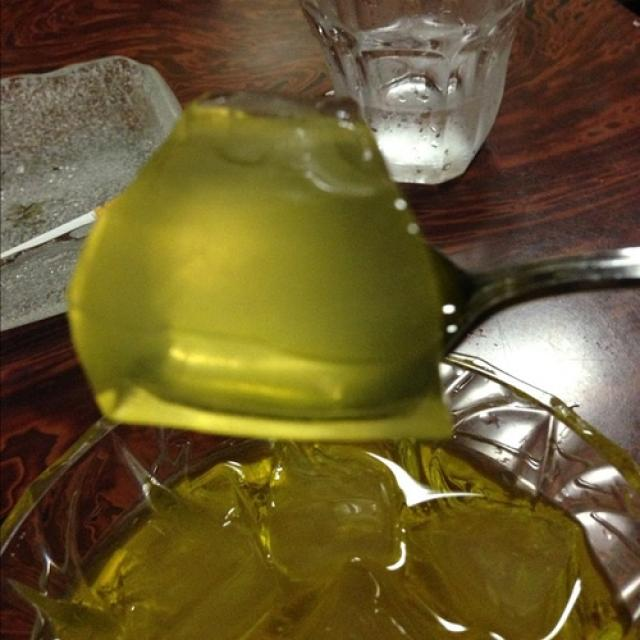蛋糕甜品: (32, 60, 623, 621)
